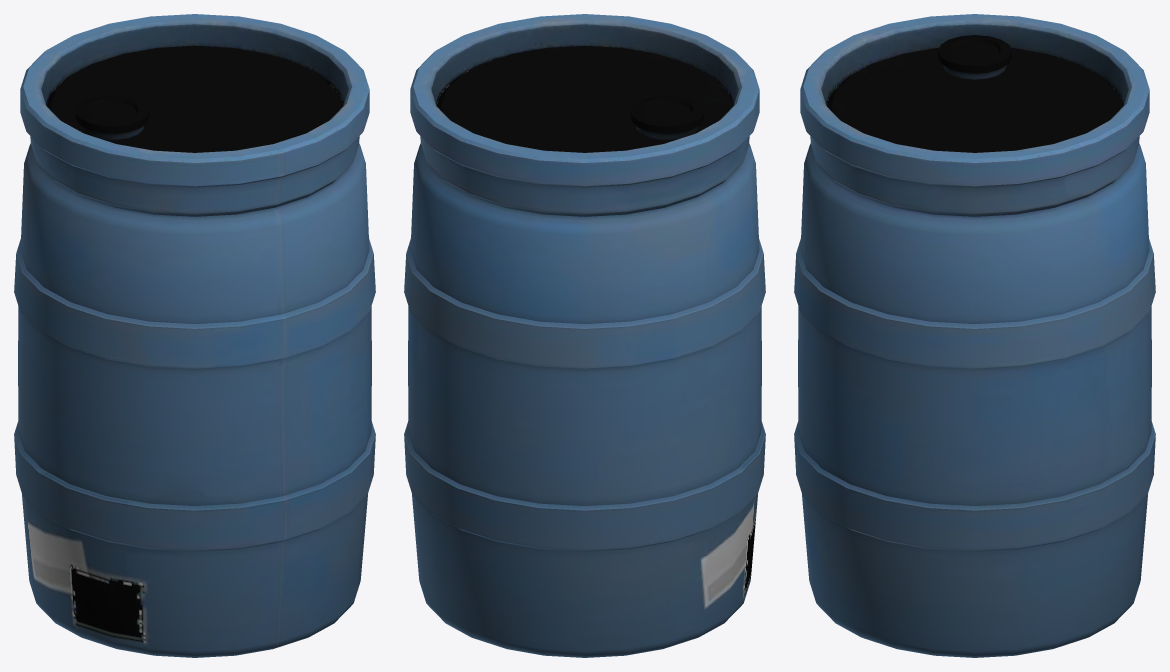
3 views of the same model, side by side, from view 1: azimuth 30°, elevation 25°; view 2: azimuth 150°, elevation 25°; view 3: azimuth 270°, elevation 25° (orthographic).
Parts seen in each view (by area): view 1: body0_model0_lod0_mesh0; view 2: body0_model0_lod0_mesh0; view 3: body0_model0_lod0_mesh0.
Part boxes in pixels (box(x1,y1,x2,y2)): body0_model0_lod0_mesh0: box(14, 14, 375, 657); body0_model0_lod0_mesh0: box(404, 14, 765, 657); body0_model0_lod0_mesh0: box(794, 14, 1155, 657).
Bounding box in the file's own units: 51.63 × 79.75 × 51.63.
1 material, 1 textured.
